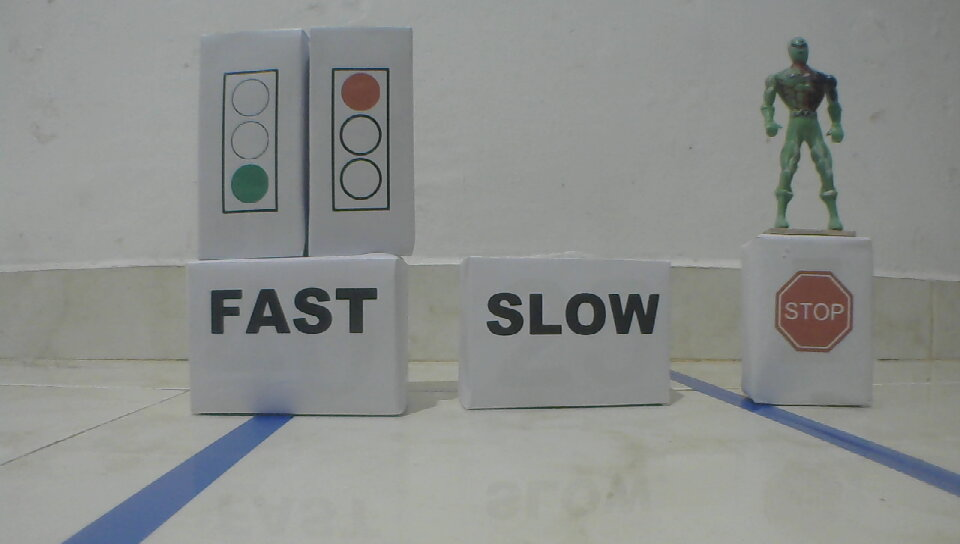Fast: (210, 287, 379, 336)
Green Traffic Light: (220, 68, 282, 215)
Person: (760, 36, 851, 233)
Red Traffic Light: (330, 65, 392, 213)
Slow: (484, 289, 663, 341)
Stop Sign: (774, 267, 856, 356)
